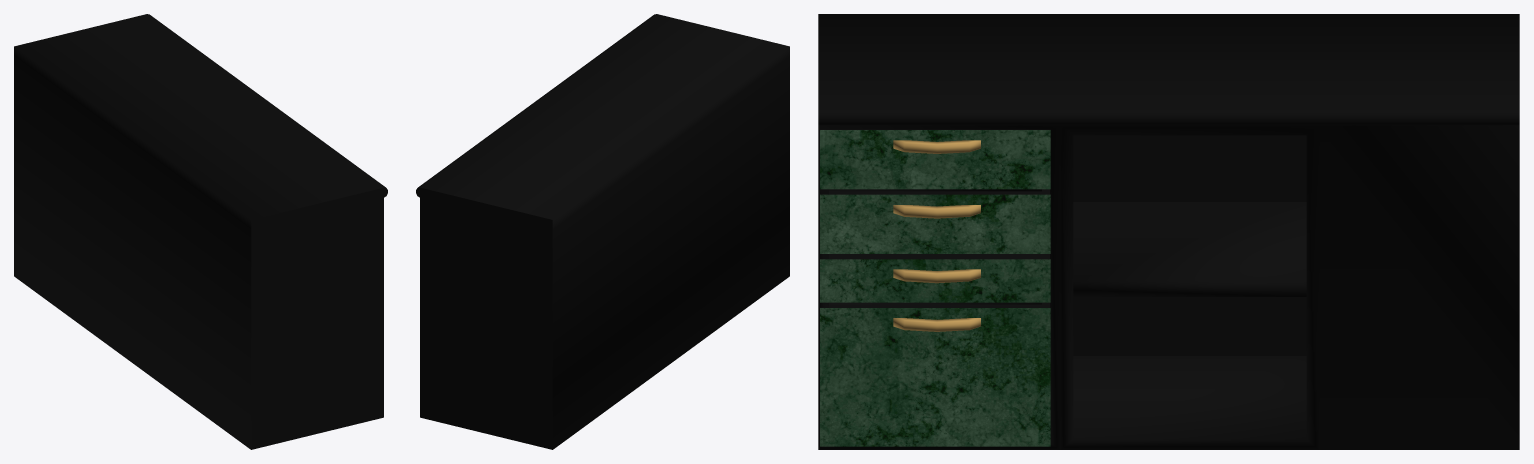
Rendered from TV Drawers.fbx.
3 renders of one model, left to right at view 1: azimuth 30°, elevation 25°; view 2: azimuth 150°, elevation 25°; view 3: azimuth 270°, elevation 25°, orthographic. The views are drawn at different scales.
Visible parts, largest first — view 1: TV Table.001; view 2: TV Table.001; view 3: TV Table.001, Drawer 04.001, Drawer 02.001, Drawer 01.001, Drawer 03..001.
Part boxes in pixels (x1,y1,x2,y2): TV Table.001: [14, 14, 387, 449]; TV Table.001: [416, 14, 789, 449]; TV Table.001: [818, 14, 1519, 449]; Drawer 04.001: [820, 302, 1050, 446]; Drawer 02.001: [820, 189, 1050, 253]; Drawer 01.001: [820, 129, 1050, 189]; Drawer 03..001: [820, 254, 1050, 302].
Size of the model in its own units: 1.37 by 2.14 by 4.
